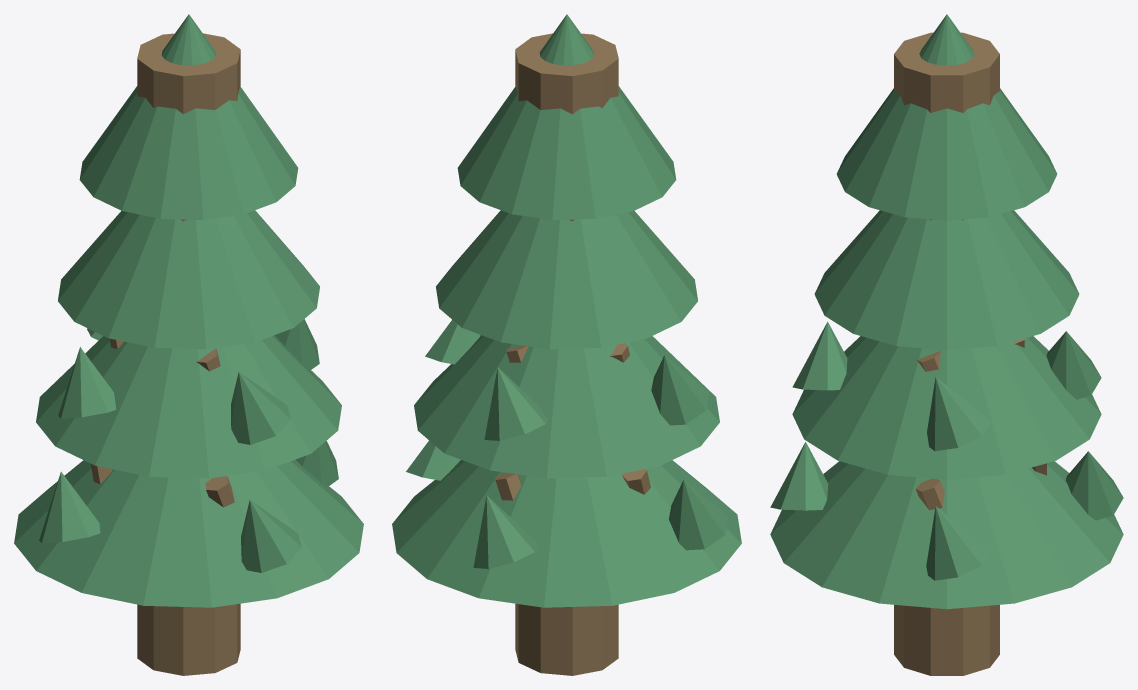
Rendered from pine_growing.glb.
3 views of the same model, side by side, from view 1: azimuth 30°, elevation 25°; view 2: azimuth 150°, elevation 25°; view 3: azimuth 270°, elevation 25° (orthographic).
Visible parts, largest first — view 1: PineGrowing_layer_1, PineGrowing_layer_2, PineGrowing_layer_3, PineGrowing_layer_4, PineGrowing_trunk, PineGrowing_needles_4, PineGrowing_needles_8, PineGrowing_needles_3, PineGrowing_needles_7, PineGrowing_needles_5, PineGrowing_needles_1, PineGrowing_branch_4; view 2: PineGrowing_layer_1, PineGrowing_layer_2, PineGrowing_layer_3, PineGrowing_layer_4, PineGrowing_trunk, PineGrowing_needles_3, PineGrowing_needles_2, PineGrowing_needles_6, PineGrowing_needles_7, PineGrowing_needles_5, PineGrowing_needles_1, PineGrowing_branch_2; view 3: PineGrowing_layer_1, PineGrowing_layer_2, PineGrowing_layer_3, PineGrowing_layer_4, PineGrowing_trunk, PineGrowing_needles_1, PineGrowing_needles_5, PineGrowing_needles_2, PineGrowing_needles_4, PineGrowing_needles_8, PineGrowing_needles_6, PineGrowing_branch_1.
Boxes of the visible parts, x1,y1,x2,y2 form: PineGrowing_layer_1: (14,459,363,607); PineGrowing_layer_2: (36,335,341,478); PineGrowing_layer_3: (58,210,319,349); PineGrowing_layer_4: (79,14,298,219); PineGrowing_trunk: (137,33,240,675); PineGrowing_needles_4: (241,500,301,572); PineGrowing_needles_8: (231,372,290,444); PineGrowing_needles_3: (39,471,100,543); PineGrowing_needles_7: (58,347,116,418); PineGrowing_needles_5: (274,319,319,370); PineGrowing_needles_1: (295,441,338,487); PineGrowing_branch_4: (205,476,234,507); PineGrowing_layer_1: (392,460,741,607); PineGrowing_layer_2: (414,335,719,478); PineGrowing_layer_3: (436,210,697,349); PineGrowing_layer_4: (457,14,676,219); PineGrowing_trunk: (515,33,618,675); PineGrowing_needles_3: (669,480,727,550); PineGrowing_needles_2: (473,495,537,568); PineGrowing_needles_6: (484,367,547,440); PineGrowing_needles_7: (651,355,708,425); PineGrowing_needles_5: (425,319,481,364); PineGrowing_needles_1: (406,440,460,480); PineGrowing_branch_2: (495,472,520,500); PineGrowing_layer_1: (770,461,1123,609); PineGrowing_layer_2: (792,336,1101,479); PineGrowing_layer_3: (814,210,1079,350); PineGrowing_layer_4: (836,14,1057,220); PineGrowing_trunk: (894,32,999,675); PineGrowing_needles_1: (926,506,991,580); PineGrowing_needles_5: (927,377,991,451); PineGrowing_needles_2: (1066,451,1123,520); PineGrowing_needles_4: (770,442,828,510); PineGrowing_needles_8: (792,321,847,390); PineGrowing_needles_6: (1046,331,1101,399); PineGrowing_branch_1: (916,478,944,510).
Size of the model in its own units: 0.8 by 1.6 by 0.8.
